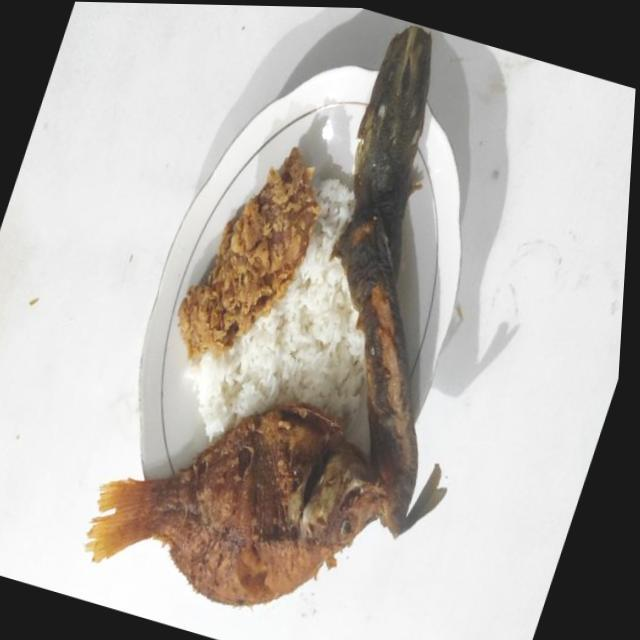ikan_mujair: (86, 404, 380, 605)
nasi_putih: (185, 179, 365, 442)
